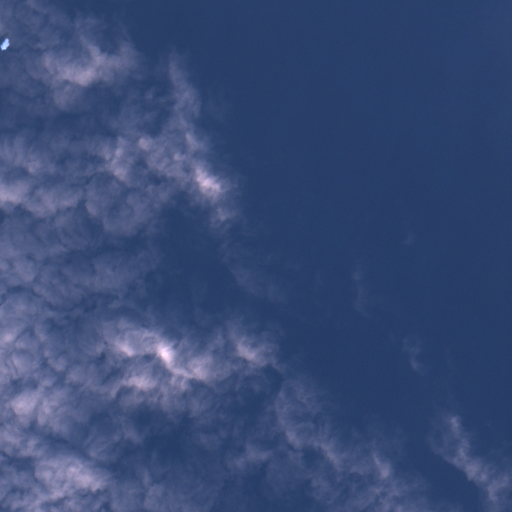Iceberg: (0, 38, 9, 50)
